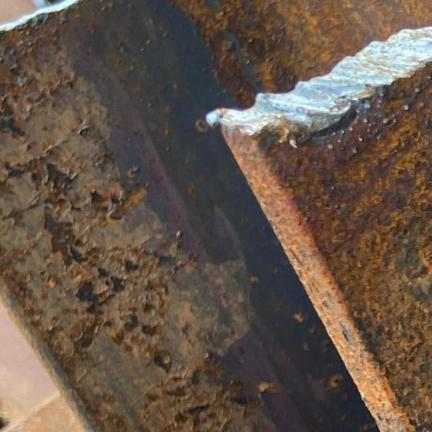karat: (0, 12, 264, 431)
